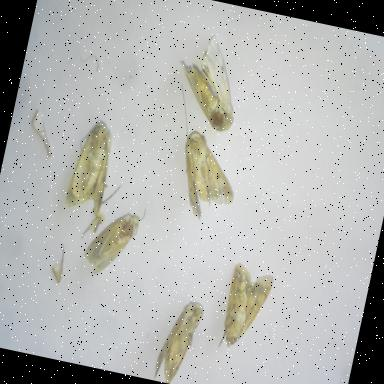abw: (164, 25, 253, 136), (166, 126, 249, 230), (213, 258, 279, 360), (60, 115, 122, 220), (78, 202, 144, 286), (149, 291, 208, 384)
